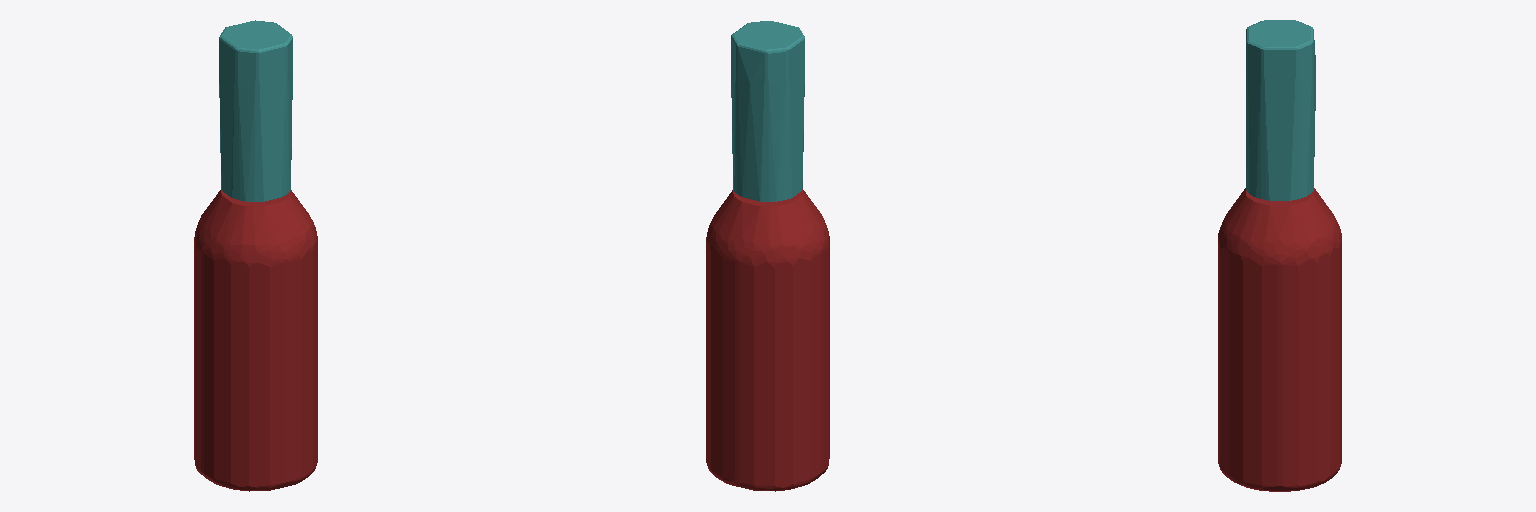
The robot description file, URDF, robot "root":
<robot name="root">
  <link name="bottle_body">
    <inertial>
      <origin xyz="0 0 0" rpy="0 0 0"/>
    </inertial>
    <mass value="1.00E-02"/>
    <visual>
      <origin xyz="0 0 0" rpy="0 0 0"/>
      <geometry>
        <mesh filename="core-bottle-5e896bc124bc0af9fd590443d27a974e-coacd_convex_piece_1.obj" scale="1.0000E-01 1.0000E-01 1.0000E-01"/>
      </geometry>
      <material name="">
        <color rgba="6.00E-01 2.00E-01 2.00E-01 1"/>
      </material>
    </visual>
    <collision>
      <origin xyz="0 0 0" rpy="0 0 0"/>
      <geometry>
        <mesh filename="core-bottle-5e896bc124bc0af9fd590443d27a974e-coacd_convex_piece_1.obj" scale="1.0000E-01 1.0000E-01 1.0000E-01"/>
      </geometry>
    </collision>
  </link>
  <link name="bottle_cap">
    <origin xyz="0 0 0.002" rpy="0 0 0"/>
    <mass value="1.00E-02"/>
    <visual>
      <origin xyz="0 0 0.002" rpy="0 0 0"/>
      <geometry>
        <mesh filename="core-bottle-5e896bc124bc0af9fd590443d27a974e-coacd_convex_piece_0.obj" scale="1.0000E-01 1.0000E-01 1.0000E-01"/>
      </geometry>
      <material name="">
        <color rgba="3.00E-01 6.00E-01 6.00E-01 1"/>
      </material>
    </visual>
    <collision>
      <origin xyz="0 0 0.002" rpy="0 0 0"/>
      <geometry>
        <mesh filename="core-bottle-5e896bc124bc0af9fd590443d27a974e-coacd_convex_piece_0.obj" scale="1.0000E-01 1.0000E-01 1.0000E-01"/>
      </geometry>
    </collision>
  </link>
  <joint name="bottle_cap_joint" type="revolute">
    <origin xyz="0 0 0" rpy="0 0 0"/>
    <parent link="bottle_body"/>
    <child link="bottle_cap"/>
    <axis xyz="0 0 1"/>
    <limit lower="0.00" upper="6.28"/>
    <dynamics damping="0.05"/>
  </joint>
</robot>

--- Facts derived from the render (not from the file) ---
Views: 3 orthographic renders of the robot side by side, from view 1: azimuth 30°, elevation 25°; view 2: azimuth 150°, elevation 25°; view 3: azimuth 270°, elevation 25°.
Robot: root — 2 links, 1 joints (1 revolute); root link bottle_body; default pose: all joints at 0.
Visible links, largest first — view 1: bottle_body, bottle_cap; view 2: bottle_body, bottle_cap; view 3: bottle_body, bottle_cap.
Boxes of the visible links, bbox=[...] form: bottle_body: bbox=[194, 190, 317, 491]; bottle_cap: bbox=[219, 20, 292, 201]; bottle_body: bbox=[706, 189, 829, 491]; bottle_cap: bbox=[731, 21, 804, 201]; bottle_body: bbox=[1218, 188, 1341, 491]; bottle_cap: bbox=[1246, 20, 1315, 200].
Size in the robot's own frame: 0.0502 by 0.0502 by 0.1943 metres.
Meshes: 2 distinct files referenced, 2 mesh visuals loaded (2 OBJ).